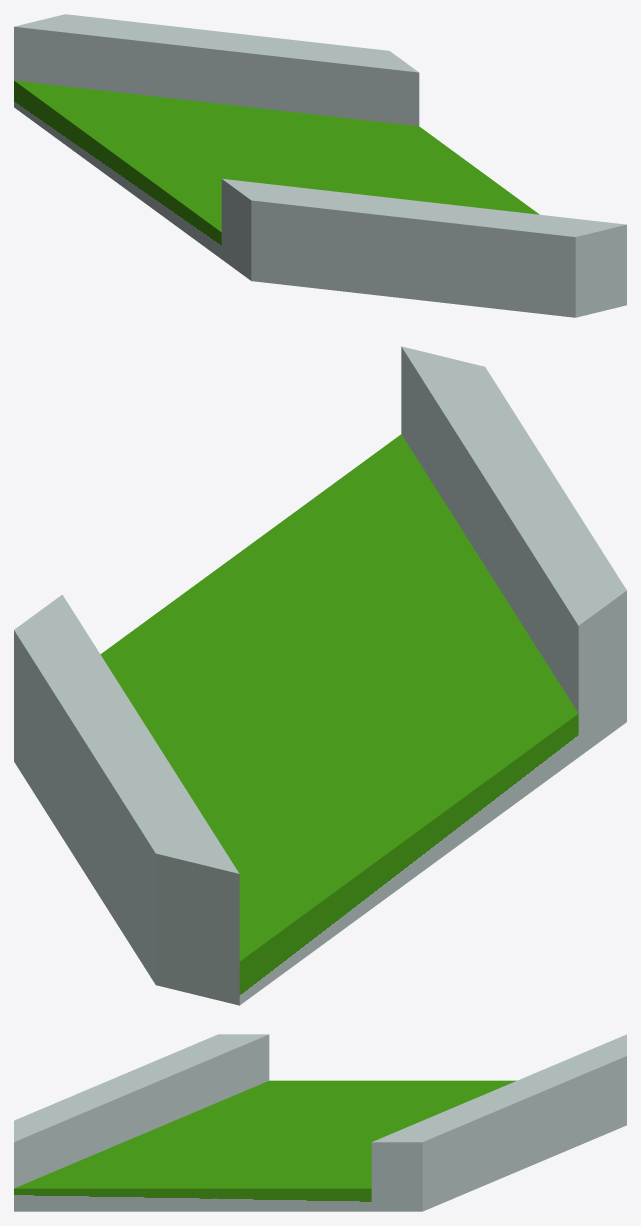
The model's file is Curva Recta.fbx.
The picture shows the model from 3 angles, top to bottom: view 1: azimuth 30°, elevation 25°; view 2: azimuth 150°, elevation 25°; view 3: azimuth 270°, elevation 25°; orthographic projection. The views are drawn at different scales.
Parts seen in each view (by area): view 1: Curva Recta; view 2: Curva Recta; view 3: Curva Recta.
Part boxes in pixels (x1=…): Curva Recta: x1=14, y1=14, x2=626, y2=317; Curva Recta: x1=14, y1=346, x2=626, y2=1005; Curva Recta: x1=14, y1=1034, x2=626, y2=1211.
Bounding box in the file's own units: 50 × 15 × 120.
Materials: 1 (1 with a texture image).
